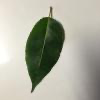Cherry leaf: (24, 16, 66, 95)
